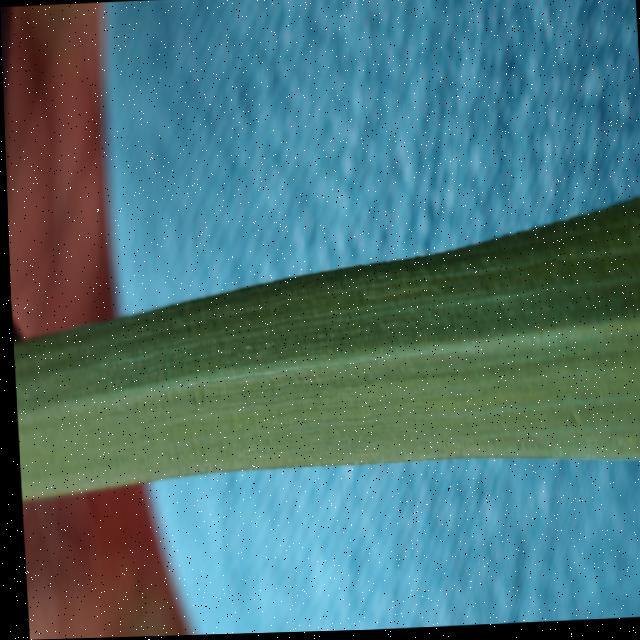healthy_wheat: (5, 166, 640, 532)
